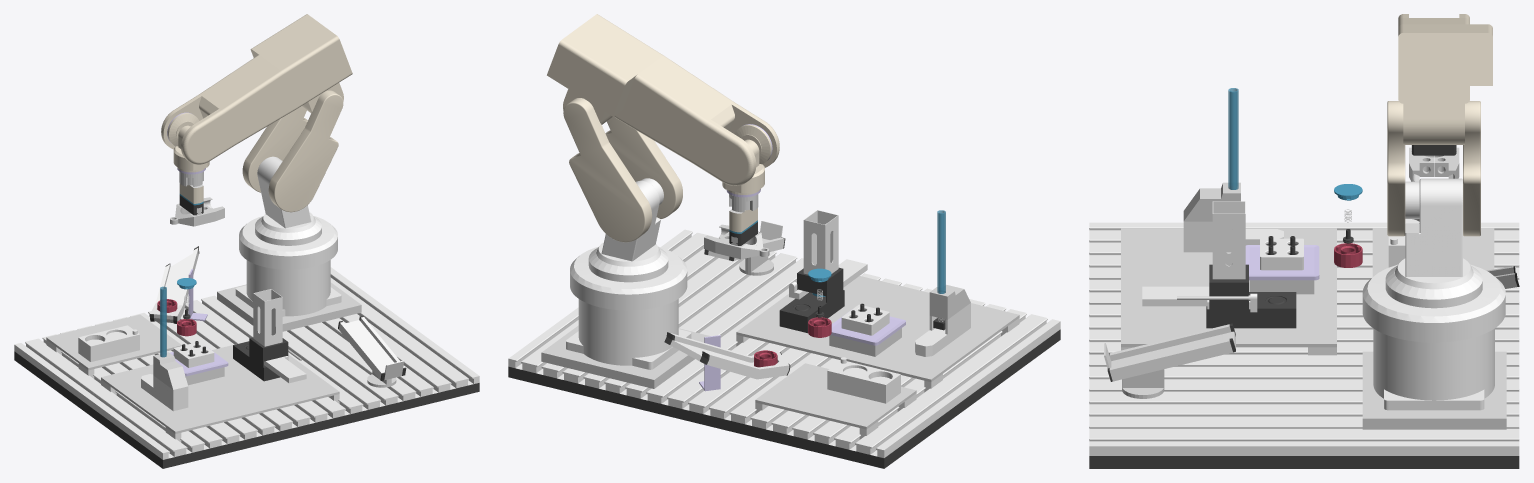
The model's file is assembly-robot-trial2.glb.
3 renders of one model, left to right at view 1: azimuth 30°, elevation 25°; view 2: azimuth 150°, elevation 25°; view 3: azimuth 270°, elevation 25°, orthographic. The views are drawn at different scales.
Parts seen in each view (by area): view 1: Table, Elbow, Parts_Base, Base, Shoulder, FC_Platform, Assemble_Base, FS_Magazine, Cube.002, Arm_Robot_Base, Base_Shoulder, Assemble (+6 smaller); view 2: Table, Elbow, Base, Parts_Base, Shoulder, Assemble_Base, FC_Platform, FS_Magazine, Arm_Robot_Base, Piston_Platform, Base_Shoulder, Assemble (+8 smaller); view 3: Table, Base, Parts_Base, Elbow, Base_Shoulder, FC_Platform, Shoulder, Arm_Robot_Base, FS_Magazine, Cube.002, Piston_Platform, Assemble_Base (+8 smaller).
Boxes of the visible parts, bbox=[...] form: Table: bbox=[14, 267, 479, 468]; Elbow: bbox=[161, 14, 352, 164]; Parts_Base: bbox=[101, 341, 339, 442]; Base: bbox=[235, 216, 341, 316]; Shoulder: bbox=[242, 90, 343, 212]; FC_Platform: bbox=[233, 289, 288, 381]; Assemble_Base: bbox=[46, 314, 181, 378]; FS_Magazine: bbox=[141, 286, 188, 411]; Cube.002: bbox=[338, 315, 406, 380]; Arm_Robot_Base: bbox=[217, 282, 361, 331]; Base_Shoulder: bbox=[257, 156, 315, 232]; Assemble: bbox=[78, 325, 139, 361]; Table: bbox=[508, 229, 1060, 468]; Elbow: bbox=[547, 14, 779, 185]; Base: bbox=[566, 246, 691, 369]; Parts_Base: bbox=[736, 276, 1019, 392]; Shoulder: bbox=[563, 98, 682, 242]; Assemble_Base: bbox=[755, 363, 916, 439]; FC_Platform: bbox=[779, 210, 844, 333]; FS_Magazine: bbox=[915, 210, 970, 356]; Arm_Robot_Base: bbox=[541, 325, 710, 388]; Piston_Platform: bbox=[829, 304, 905, 356]; Base_Shoulder: bbox=[596, 178, 663, 266]; Assemble: bbox=[827, 357, 900, 403]; Table: bbox=[1089, 222, 1519, 468]; Base: bbox=[1362, 264, 1505, 410]; Parts_Base: bbox=[1121, 228, 1336, 355]; Elbow: bbox=[1398, 14, 1492, 144]; Base_Shoulder: bbox=[1395, 178, 1473, 289]; FC_Platform: bbox=[1206, 201, 1296, 328]; Shoulder: bbox=[1387, 101, 1480, 236]; Arm_Robot_Base: bbox=[1362, 351, 1506, 429]; FS_Magazine: bbox=[1183, 88, 1283, 252]; Cube.002: bbox=[1104, 323, 1235, 381]; Piston_Platform: bbox=[1245, 238, 1319, 294]; Assemble_Base: bbox=[1372, 228, 1494, 276].
Size of the model in its own units: 0.7363 by 0.6327 by 0.599.
